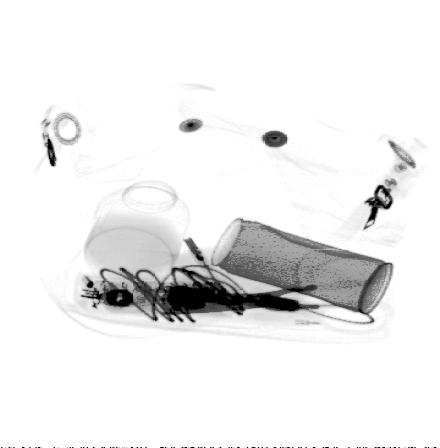Scissors: (161, 250, 396, 335)
